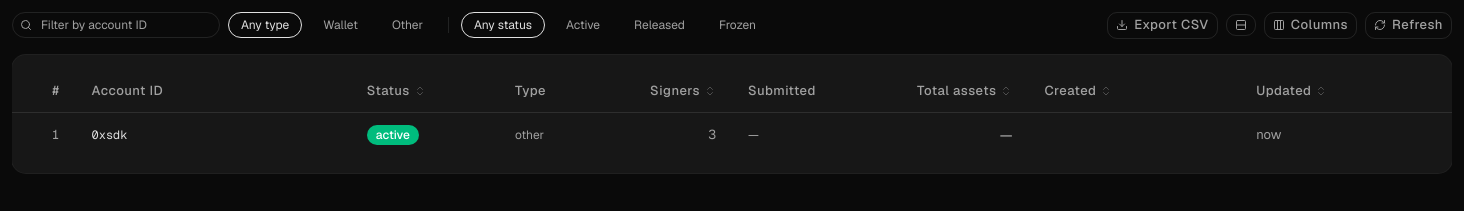
Test: AccountsPanel › says so when a filter matches nothing in the loaded rows
Click the button "Wallet" at (341, 25), box [310,12,371,38]
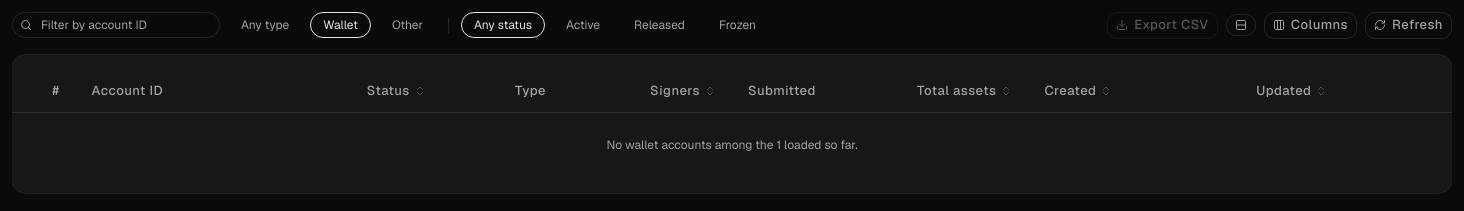
Expected: the text "No wallet accounts among the 1 loaded so far." is shown, [606,137,858,153]
